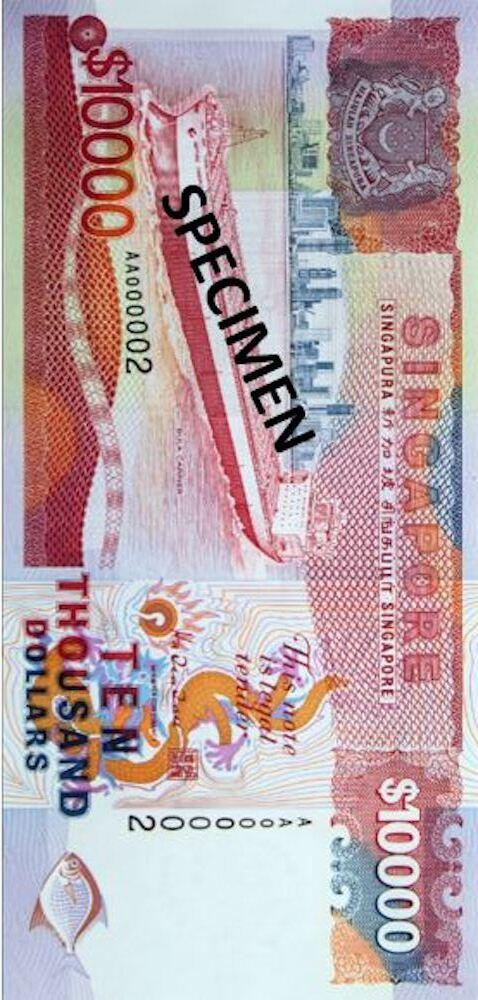10000SingaporeDollar: (9, 0, 478, 1000)
